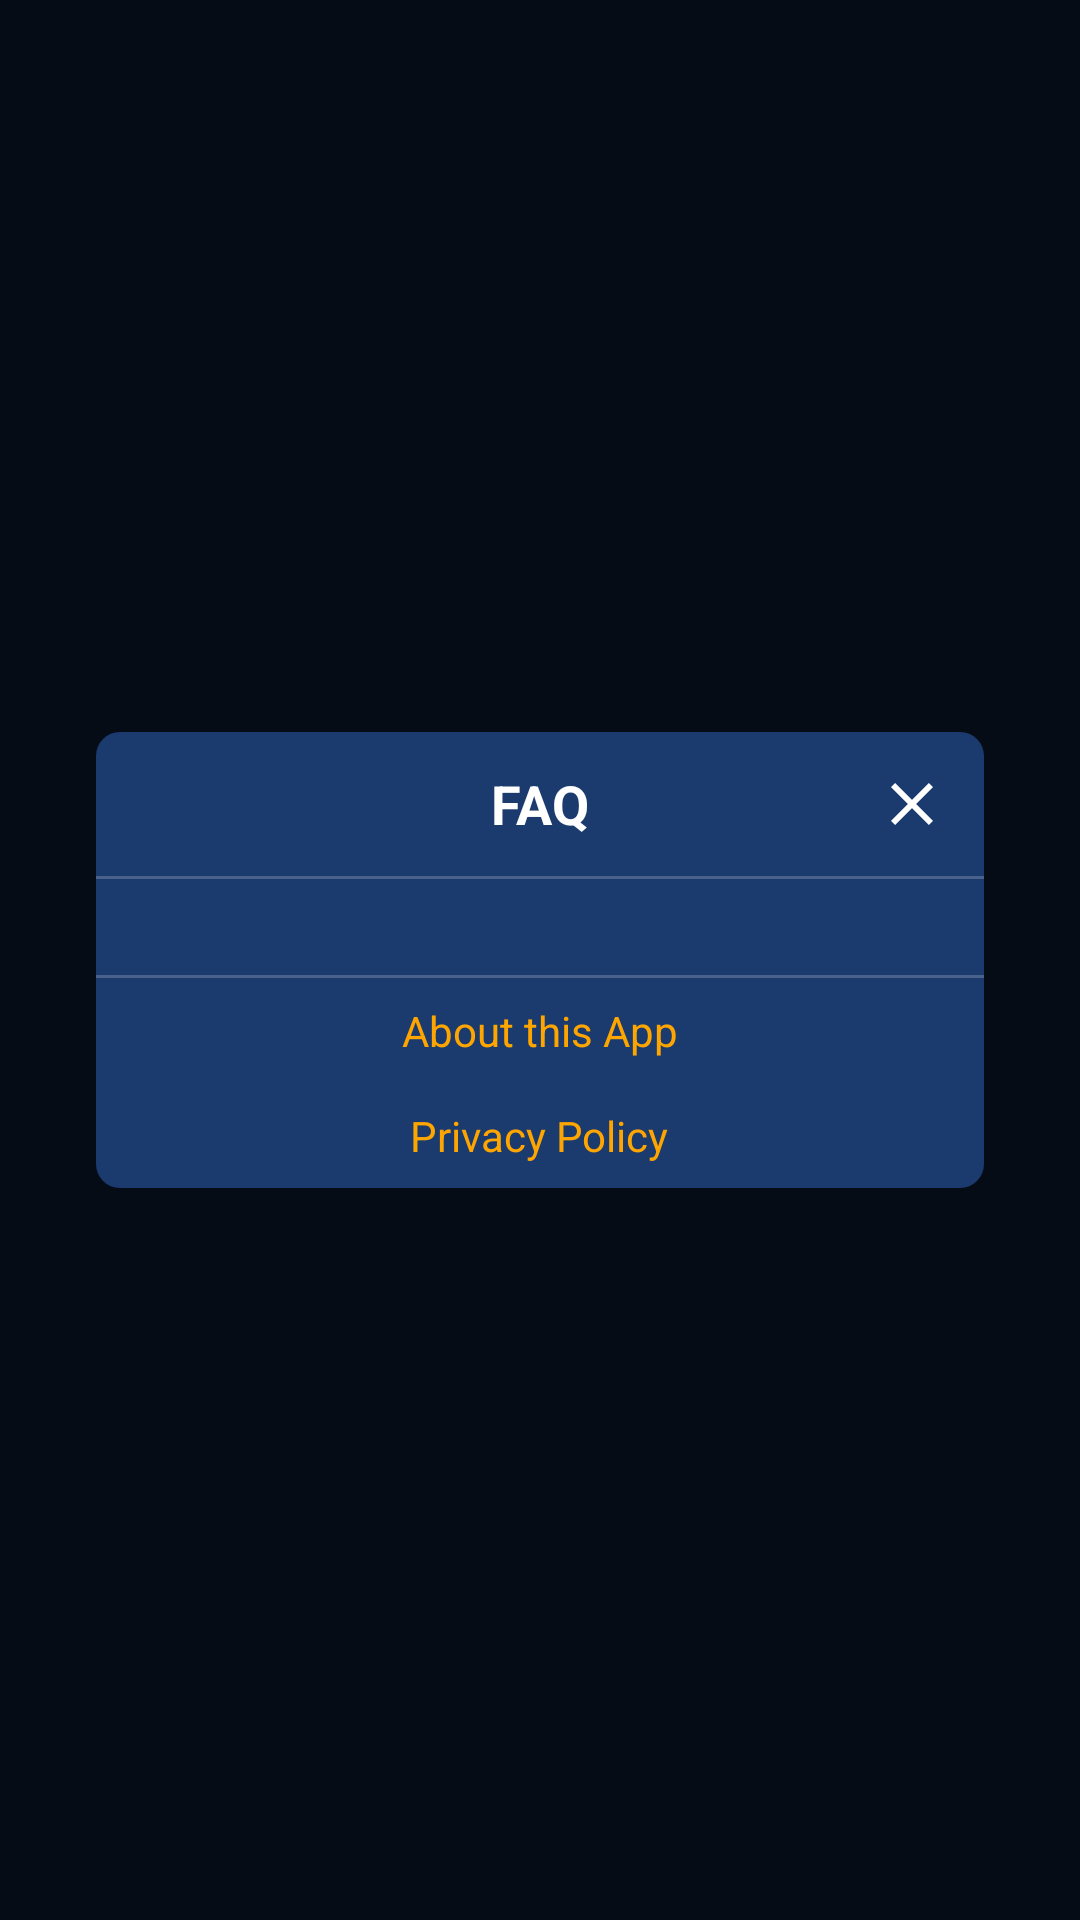

Named icons in this screenshot (1080 x 1920) and their centers, (x=x, y=y):
Close FAQ: (x=912, y=804)
